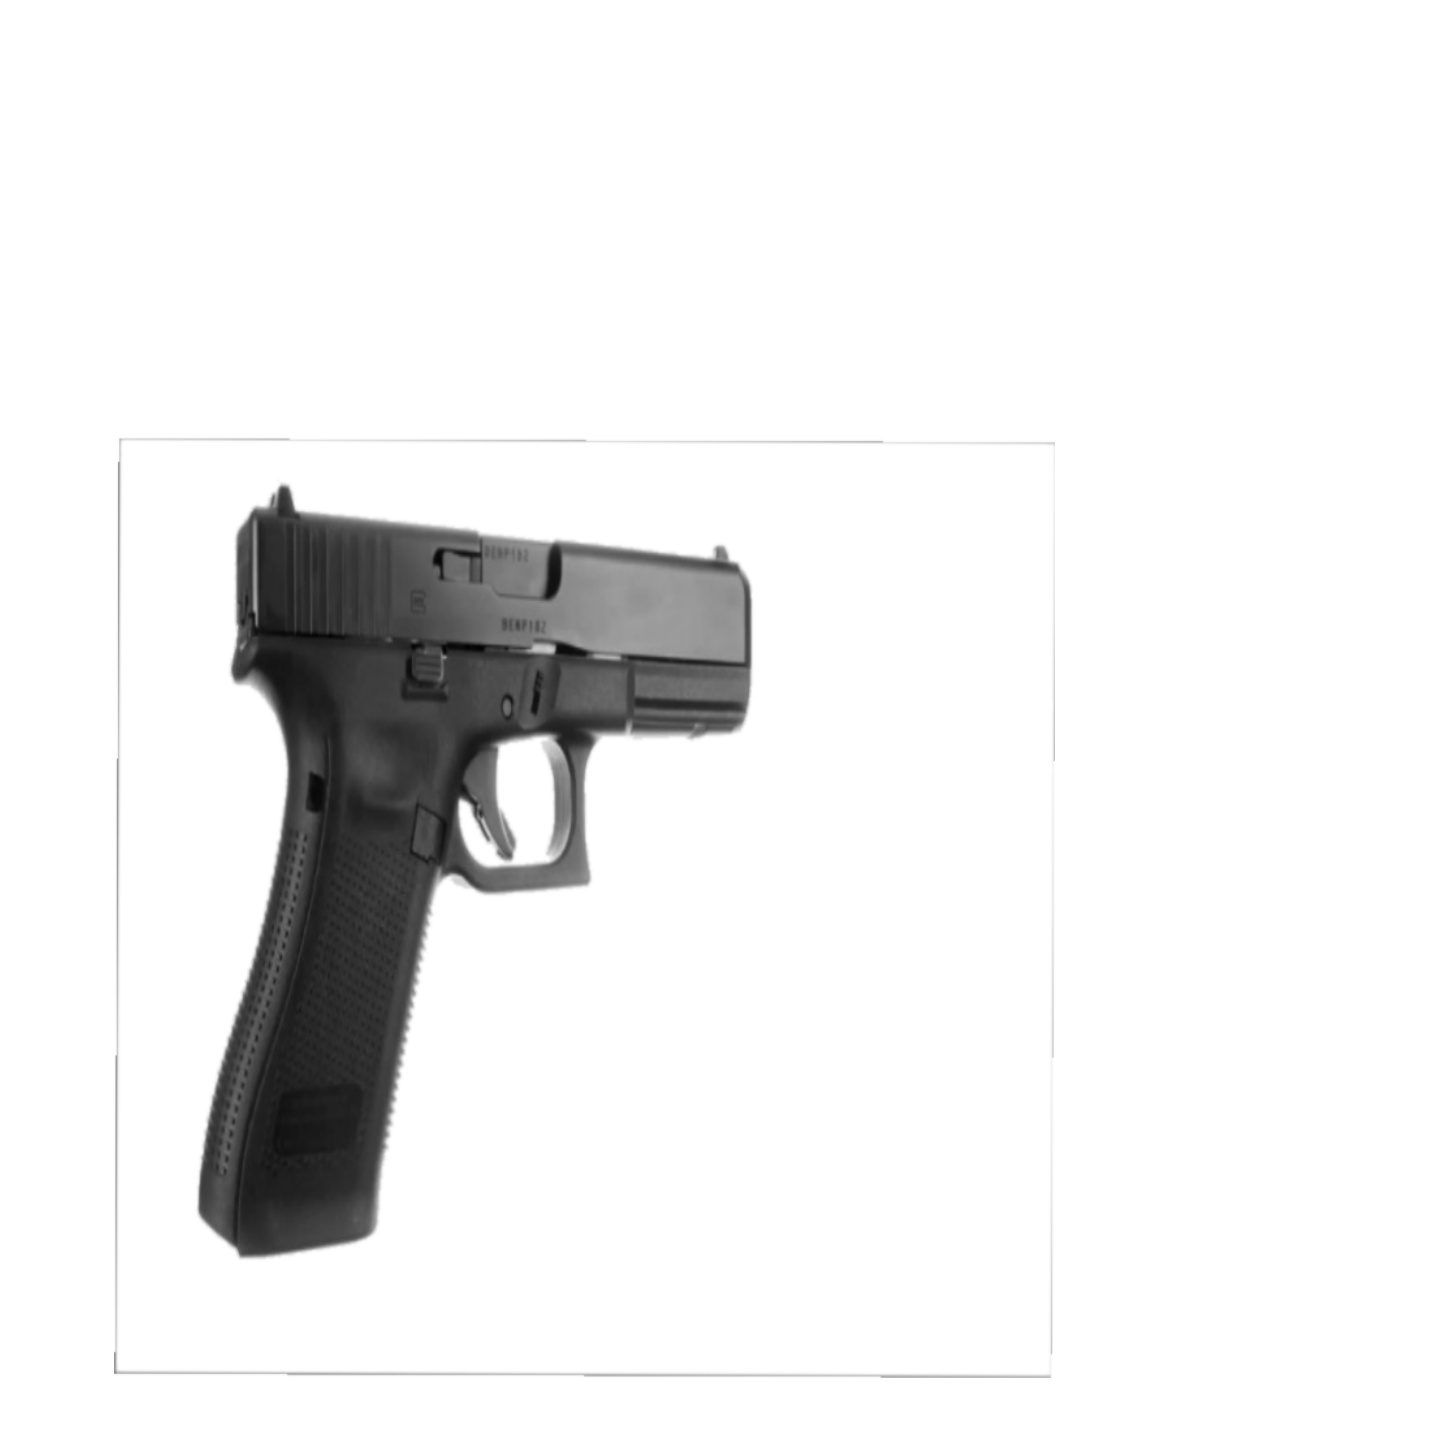gun: (196, 489, 752, 1258)
